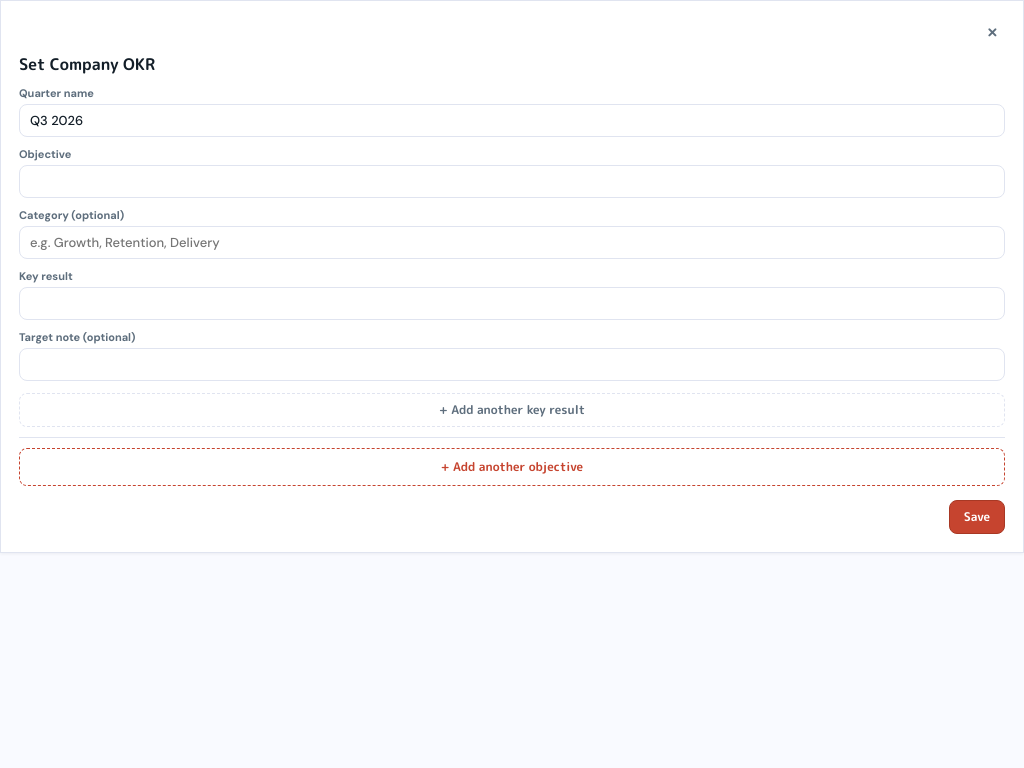
Scenario: CompanyOkrDialog › blocks save when the quarter name is cleared
Clear the field labelled "Quarter name". click: (512, 120)
box: [19,104,1005,137]
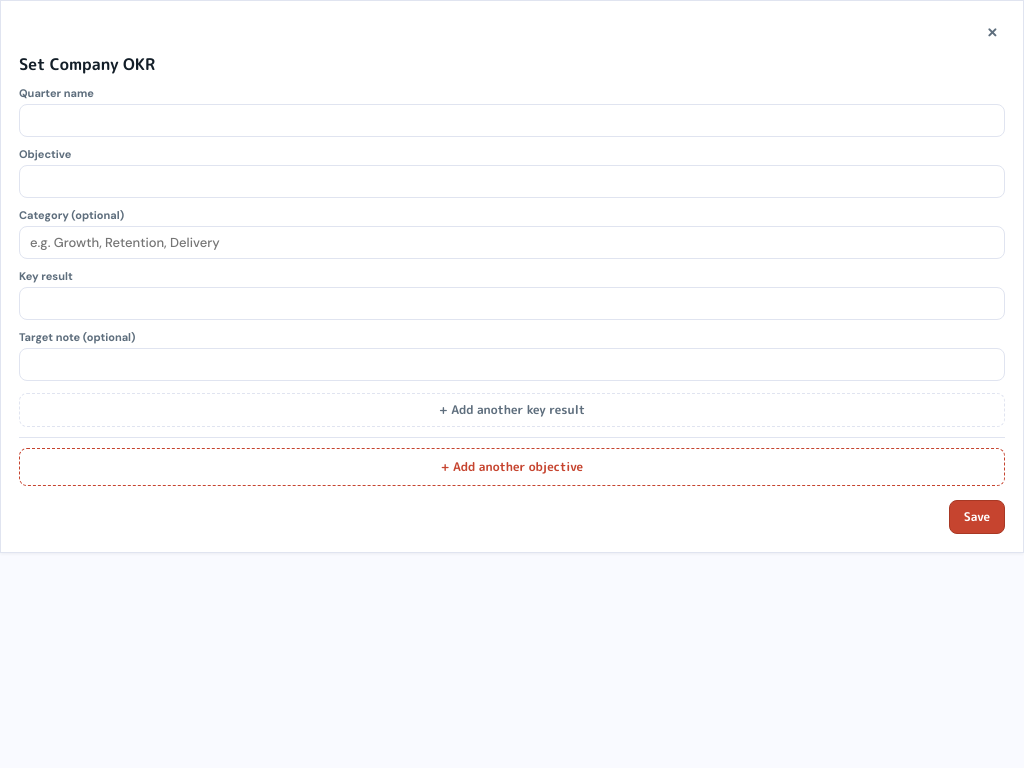
Type "Grow revenue" into the field labelled "Objective". click: (512, 182)
box: [19,165,1005,198]
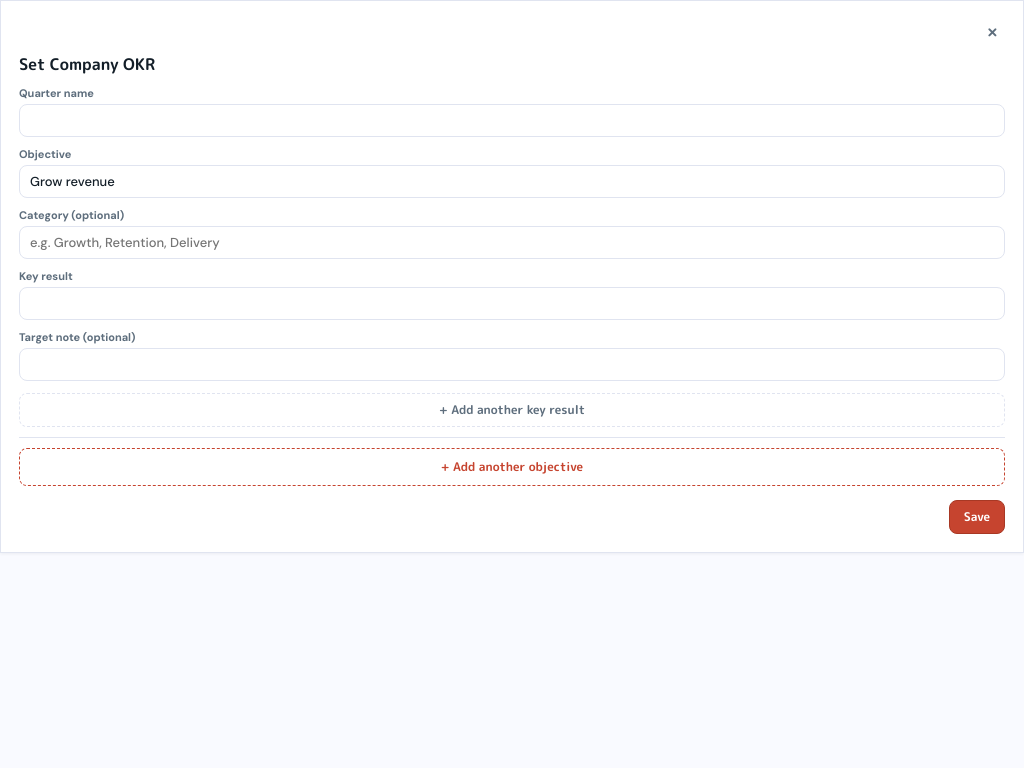
Type "Sign 5 enterprise deals" into the field labelled "Key result". click: (512, 304)
box: [19,287,1005,320]
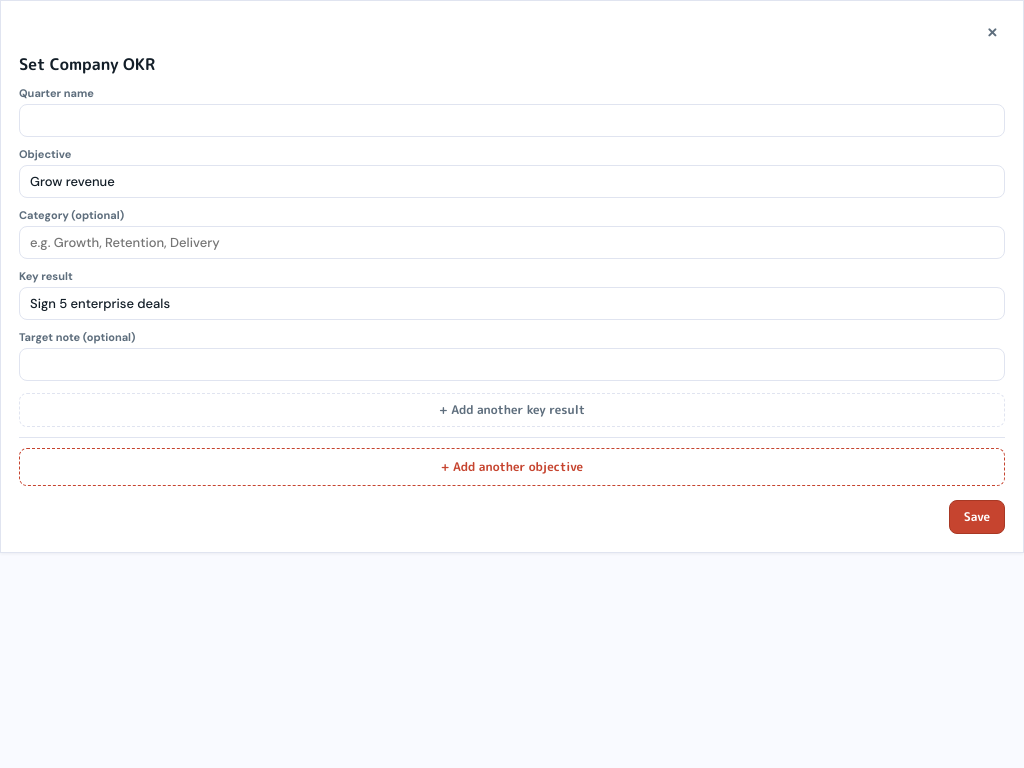
Click the button "Save". click: (977, 517)
box: [949,500,1005,534]
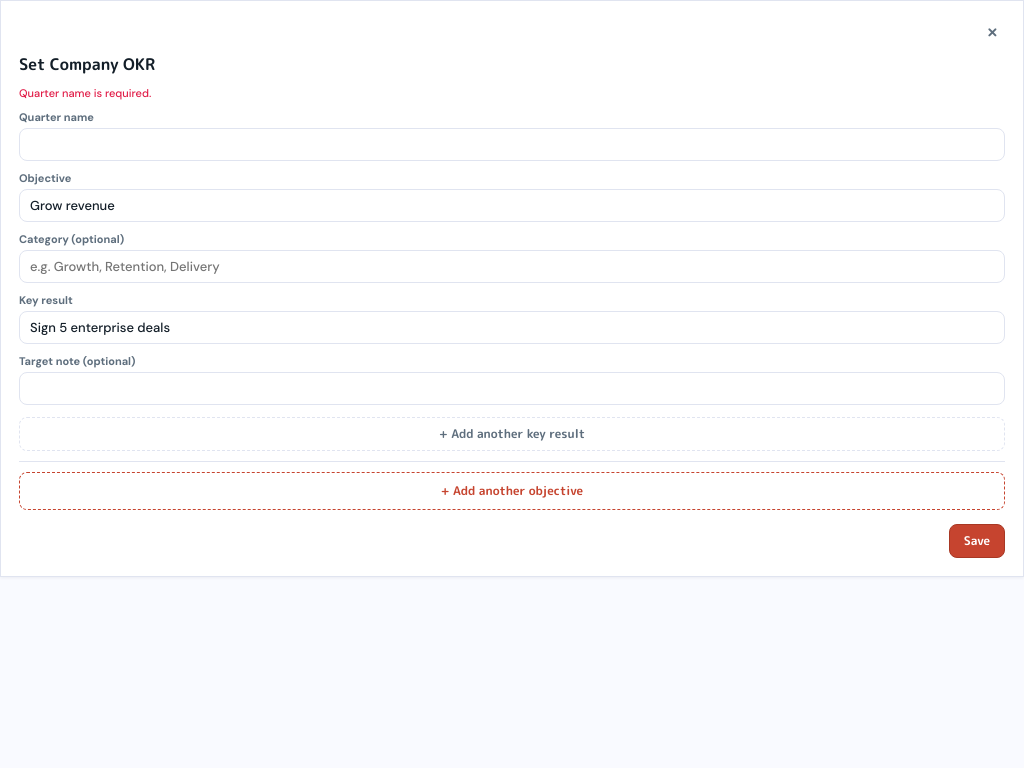
Expected: the message shows "Quarter name is required", [19,86,151,100]
